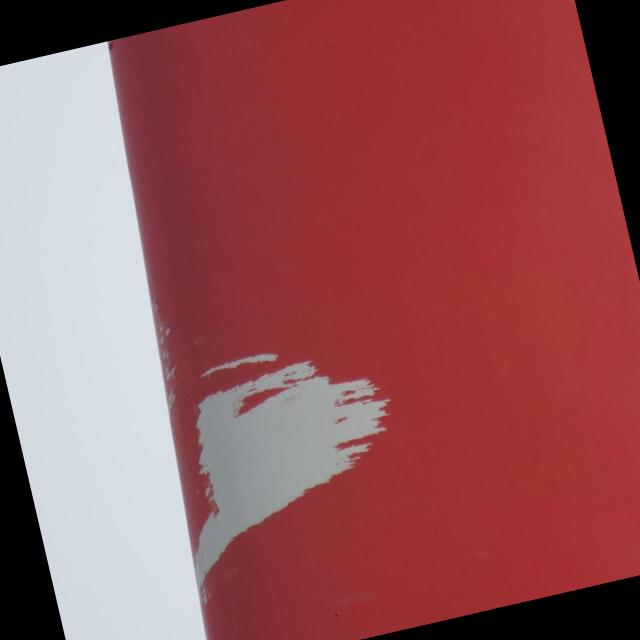surface_peeling: (146, 312, 427, 602)
